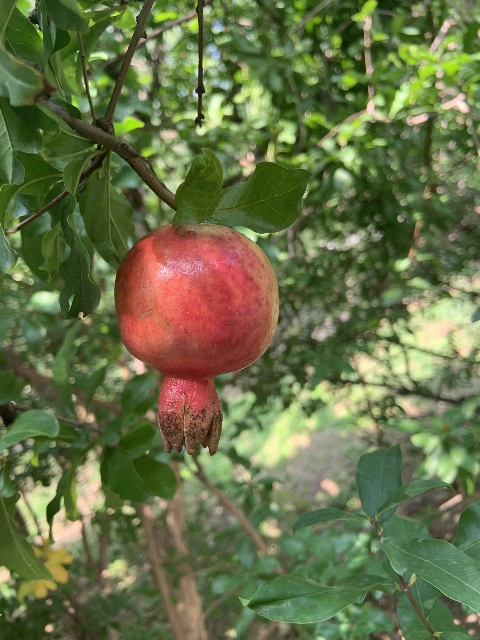ripe: (114, 222, 279, 457)
